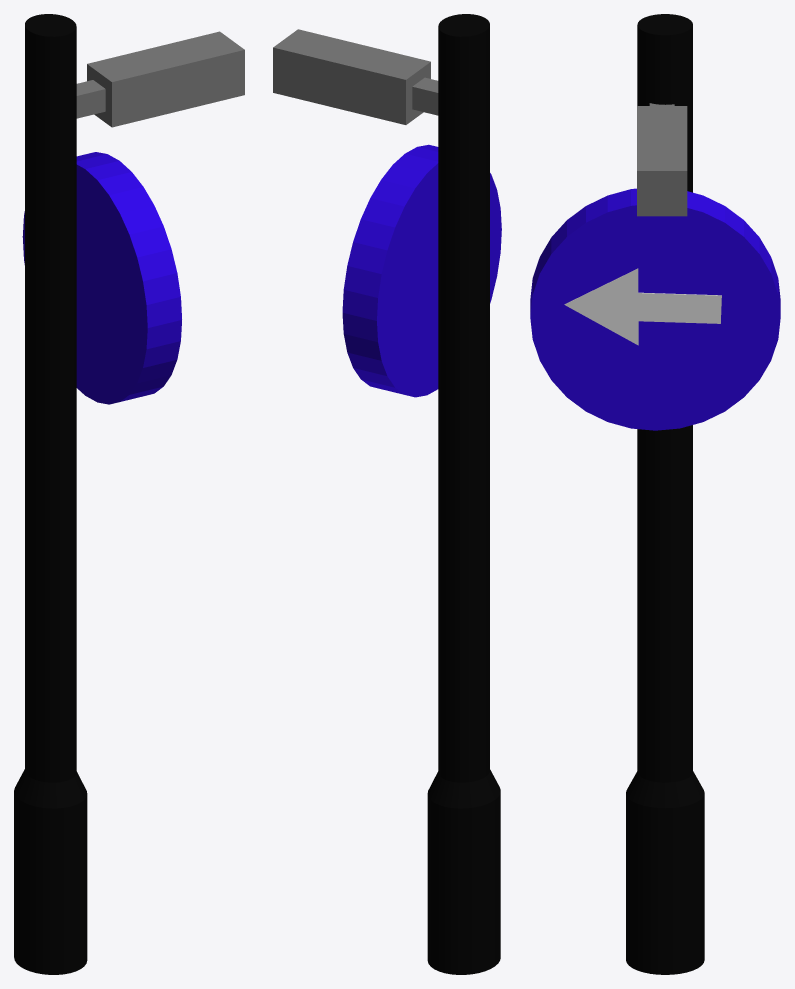
The model's file is GoLeft.fbx.
3 renders of one model, left to right at view 1: azimuth 30°, elevation 25°; view 2: azimuth 150°, elevation 25°; view 3: azimuth 270°, elevation 25°, orthographic.
Visible parts, largest first — view 1: Cylinder, Circle, Cube; view 2: Cylinder, Circle, Cube; view 3: Circle, Cylinder, Cube, GOLEFTARROW.
Boxes of the visible parts, <box> form: Cylinder: <box>14,14,87,974</box>; Circle: <box>22,152,181,404</box>; Cube: <box>76,31,244,127</box>; Cylinder: <box>427,14,500,974</box>; Circle: <box>342,144,501,397</box>; Cube: <box>273,29,438,124</box>; Circle: <box>530,188,780,430</box>; Cylinder: <box>626,14,704,974</box>; Cube: <box>637,103,687,216</box>; GOLEFTARROW: <box>564,268,721,345</box>.
Size of the model in its own units: 1.01 by 4.28 by 1.04.
